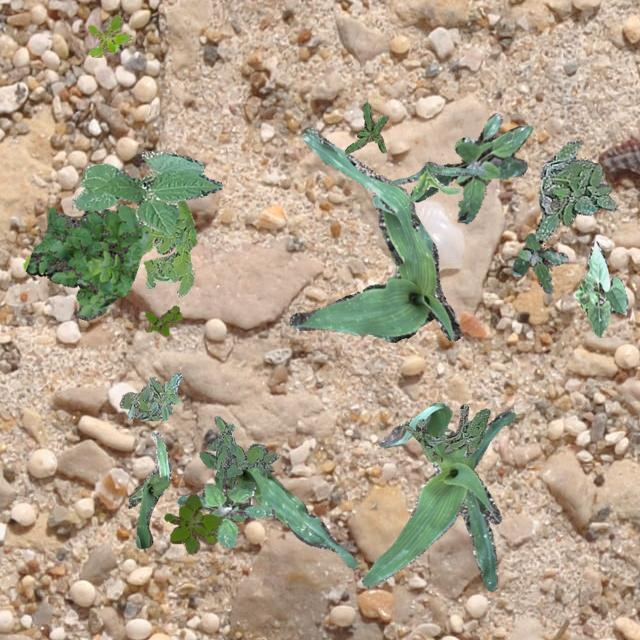crop: (288, 128, 461, 342), (360, 400, 514, 590), (214, 467, 356, 568), (71, 150, 221, 234), (572, 240, 628, 336), (128, 430, 170, 548), (390, 160, 486, 204)
weed: (23, 202, 148, 320), (412, 111, 532, 222), (534, 140, 616, 242), (175, 481, 274, 546), (198, 416, 278, 484), (142, 198, 196, 296), (402, 403, 488, 458), (509, 232, 566, 292), (163, 494, 220, 554), (118, 372, 180, 420), (344, 100, 386, 152), (88, 14, 132, 56), (144, 304, 180, 336)
